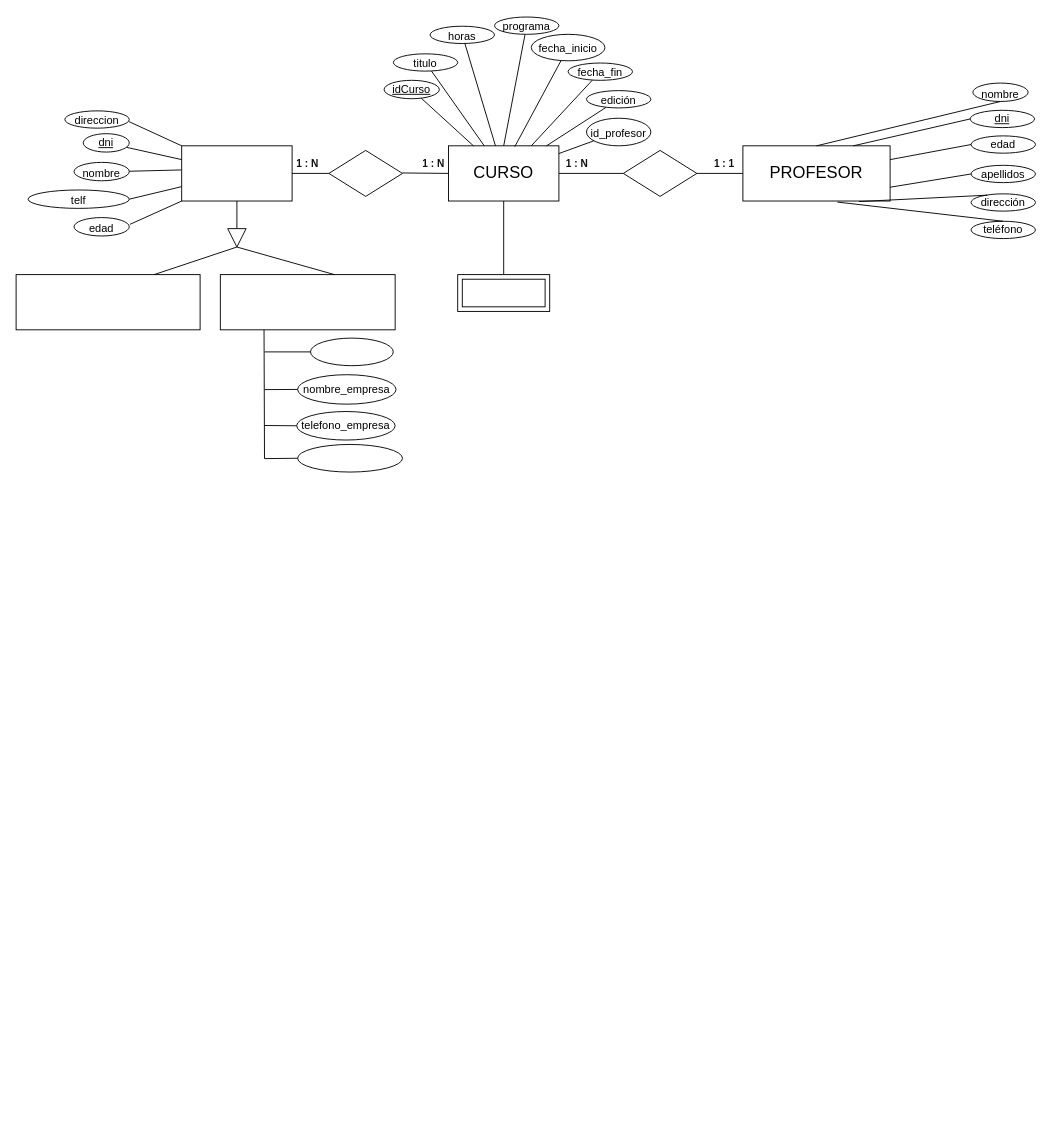
This 1052x1144 diagram has some shape labels left out. Each missing label, with the centre of its shape:
ALUMNO: the point at 236,173
cif: the point at 351,351
cursa: the point at 365,173
DESEMPLEADO: the point at 107,302
direccion_empresa: the point at 349,458
imparte: the point at 659,173
NOTAS: the point at 503,292
TRABAJADOR: the point at 307,302
